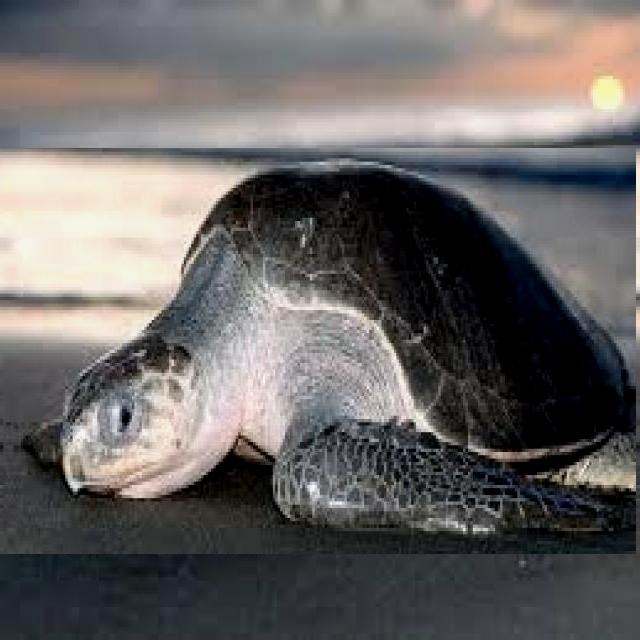Sea turtle: (0, 148, 636, 554)
